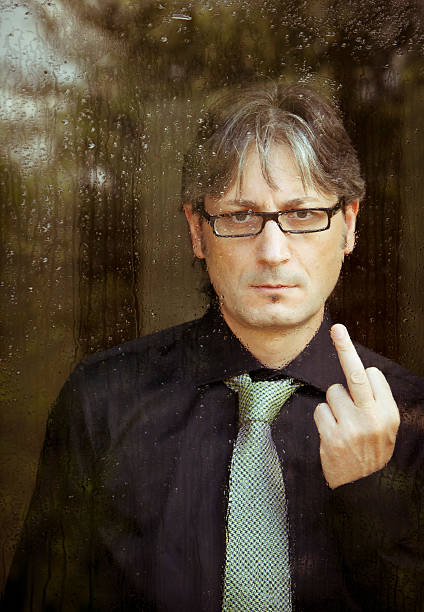insulting_gesture: (312, 324, 400, 488)
